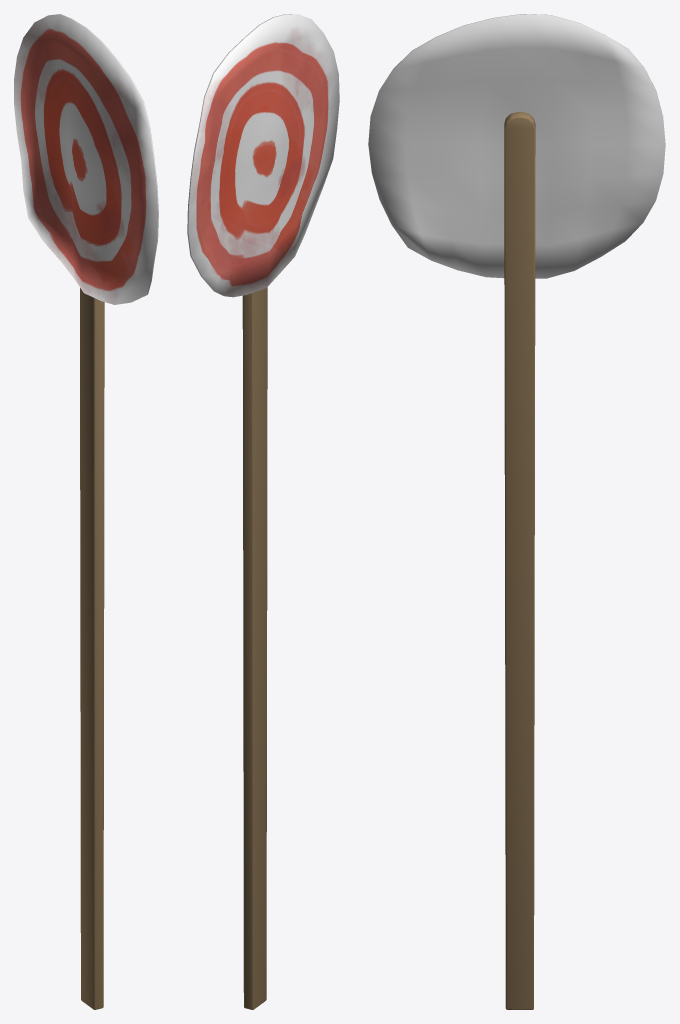
File: target2.fbx
3 views of the same model, side by side, from view 1: azimuth 30°, elevation 25°; view 2: azimuth 150°, elevation 25°; view 3: azimuth 270°, elevation 25° (orthographic).
Visible parts, largest first — view 1: Plane, Cube; view 2: Plane, Cube; view 3: Plane, Cube.
Boxes of the visible parts, x1,y1,x2,y2 form: Plane: (14,14,158,304); Cube: (80,288,104,1009); Plane: (187,14,339,297); Cube: (242,287,267,1009); Plane: (368,14,665,278); Cube: (504,112,535,1009).
Size of the model in its own units: 14.87 by 672 by 183.
Materials: 3 (1 with a texture image).
